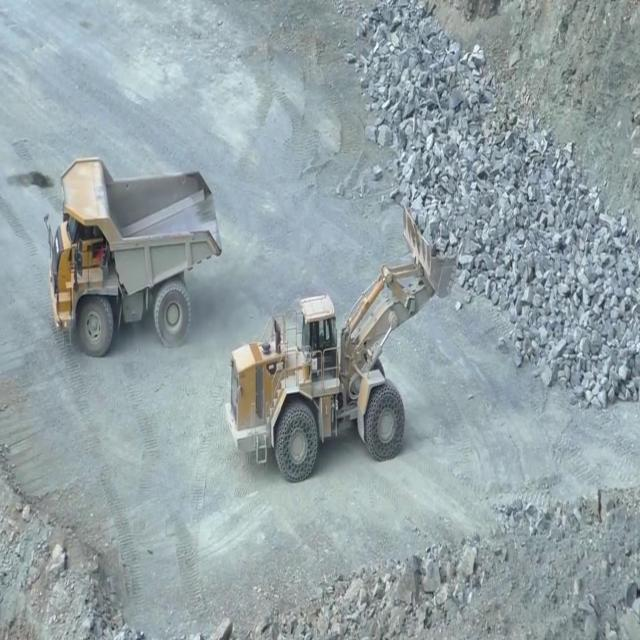Dump Truck: (44, 156, 222, 359)
Loader: (223, 202, 465, 483)
